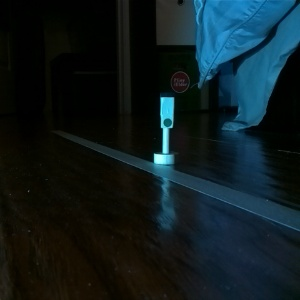traffic light green: (152, 89, 180, 168)
